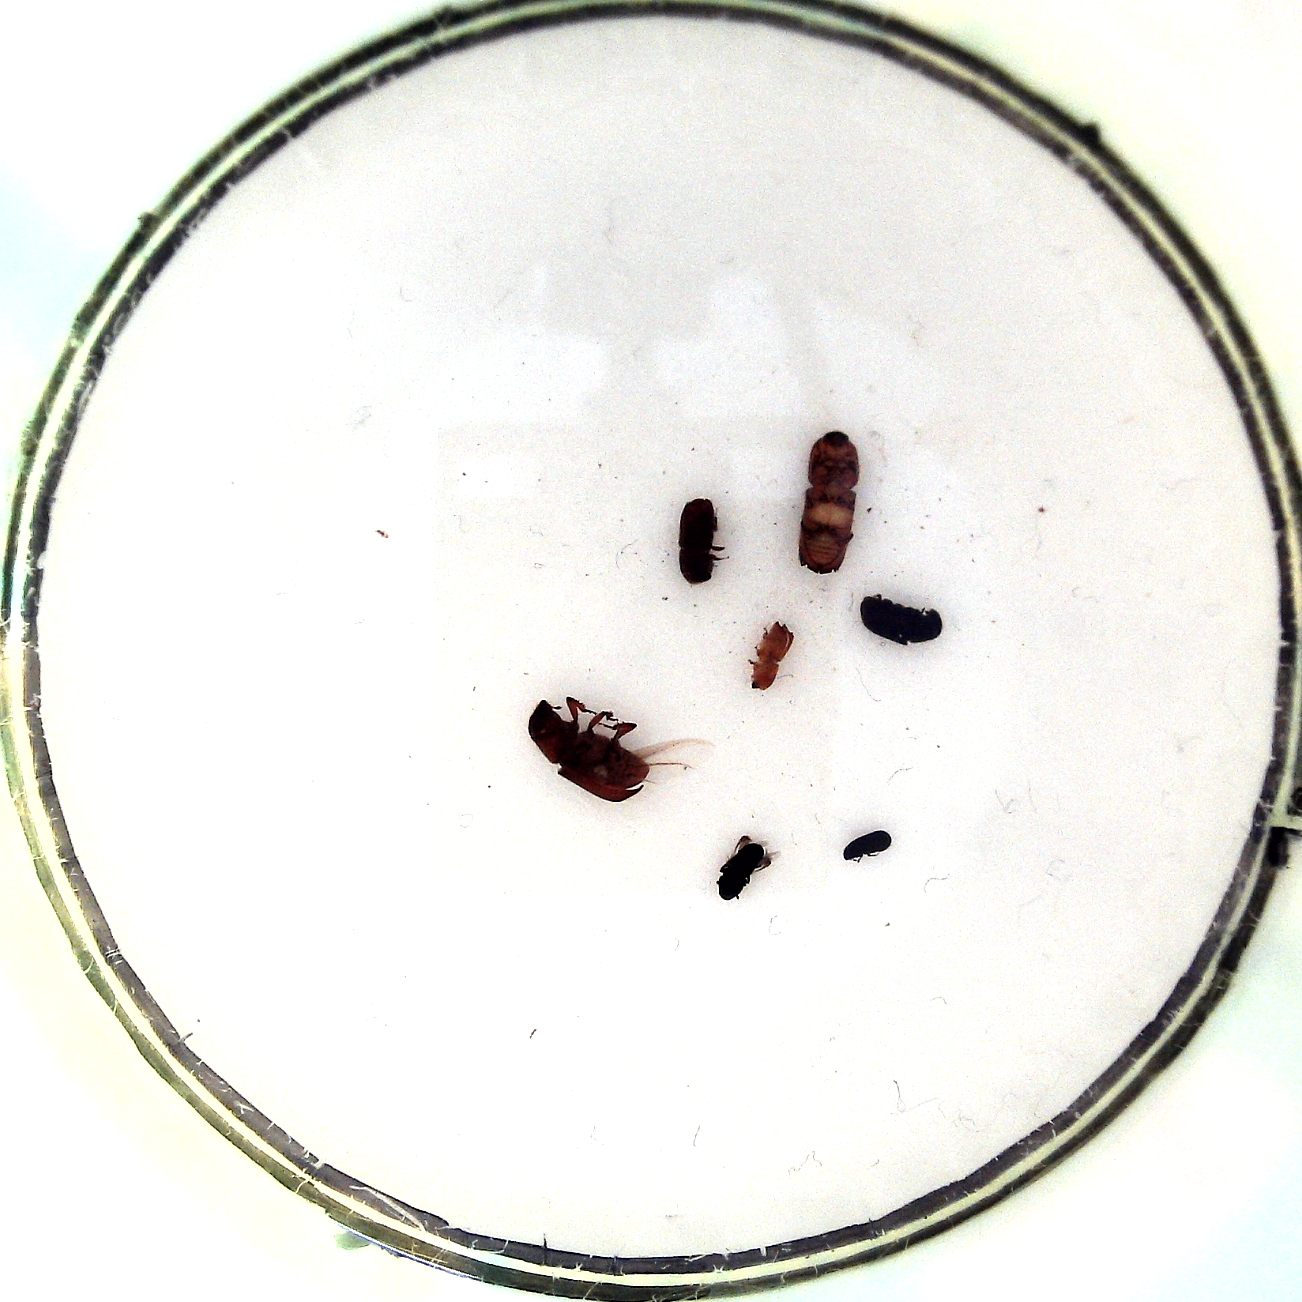Boerner: (792, 428, 864, 583)
Leconte: (523, 690, 717, 802)
Linnaeus: (672, 485, 731, 593)
acuminatus: (746, 618, 800, 695)
armandi: (856, 590, 951, 649)
coleoptera: (713, 833, 788, 906), (833, 824, 900, 864)
